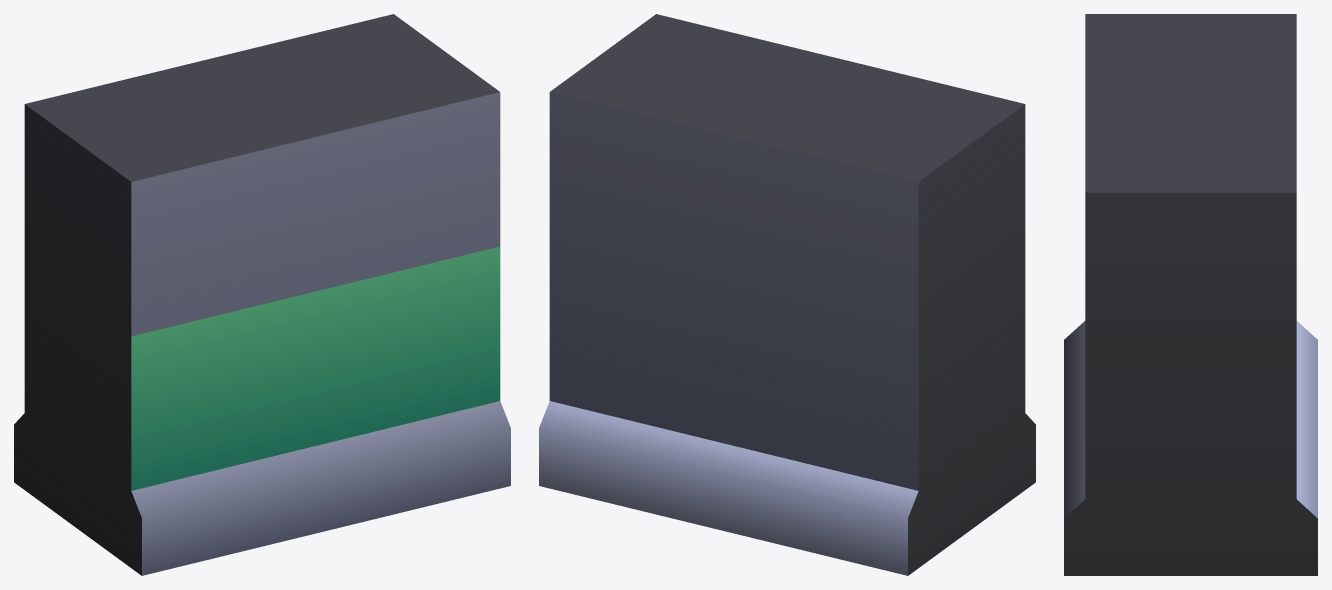
The model's file is kenney-mini-market-wall.glb.
3 renders of one model, left to right at view 1: azimuth 30°, elevation 25°; view 2: azimuth 150°, elevation 25°; view 3: azimuth 270°, elevation 25°, orthographic.
Visible parts, largest first — view 1: wall; view 2: wall; view 3: wall.
Part boxes in pixels (x1=…): wall: x1=14, y1=14, x2=510, y2=575; wall: x1=539, y1=14, x2=1035, y2=575; wall: x1=1064, y1=14, x2=1317, y2=575.
Bounding box in the file's own units: 1 × 1 × 0.6001.
Materials: 1 (1 with a texture image).
